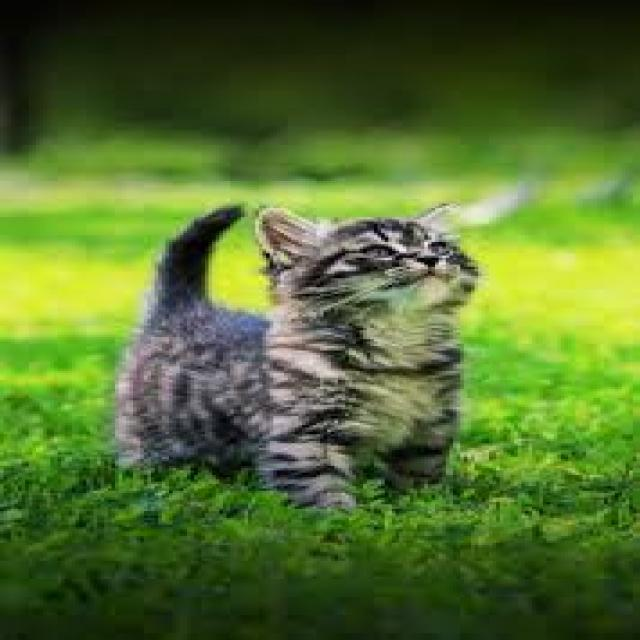Cat: (100, 193, 495, 517)
